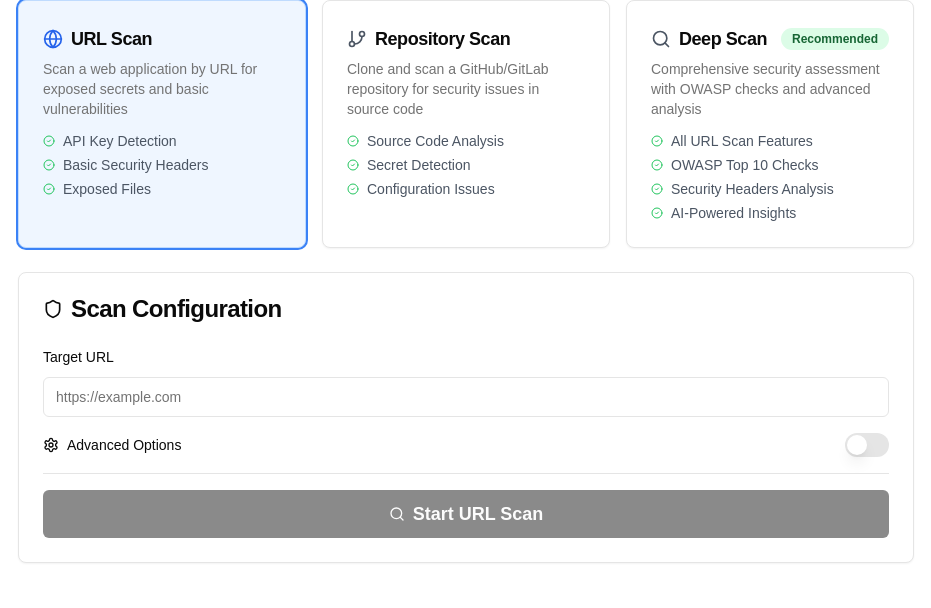
ScanTypeSelector › validates URL input correctly
Later steps or results of the test are not shown.
Test invalid URL
Step 1. Type "invalid-url" into the field labelled "Target URL" → (466, 397), box [43,377,889,417]
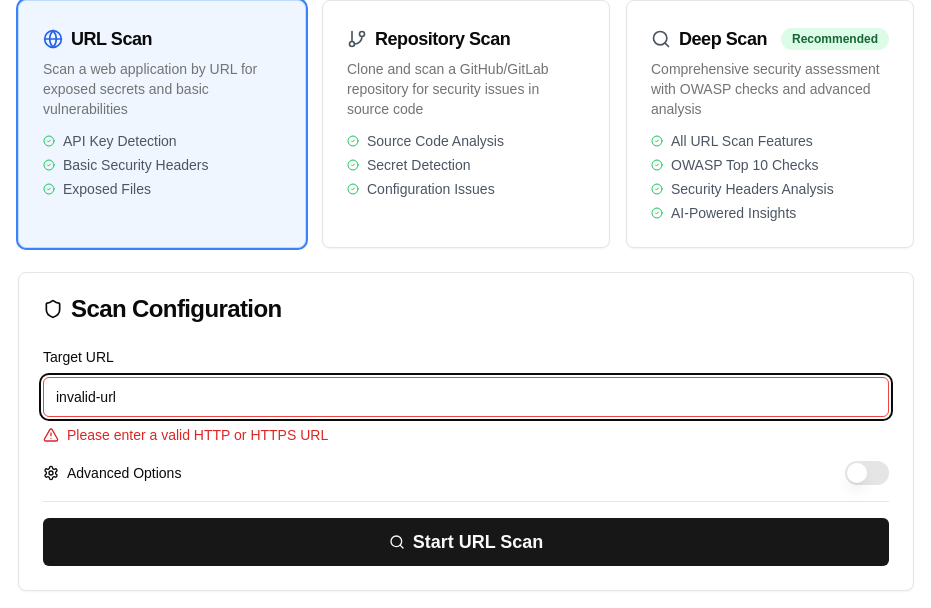
Result: the text "Please enter a valid HTTP or HTTPS URL" is shown at [67,425,328,445]
